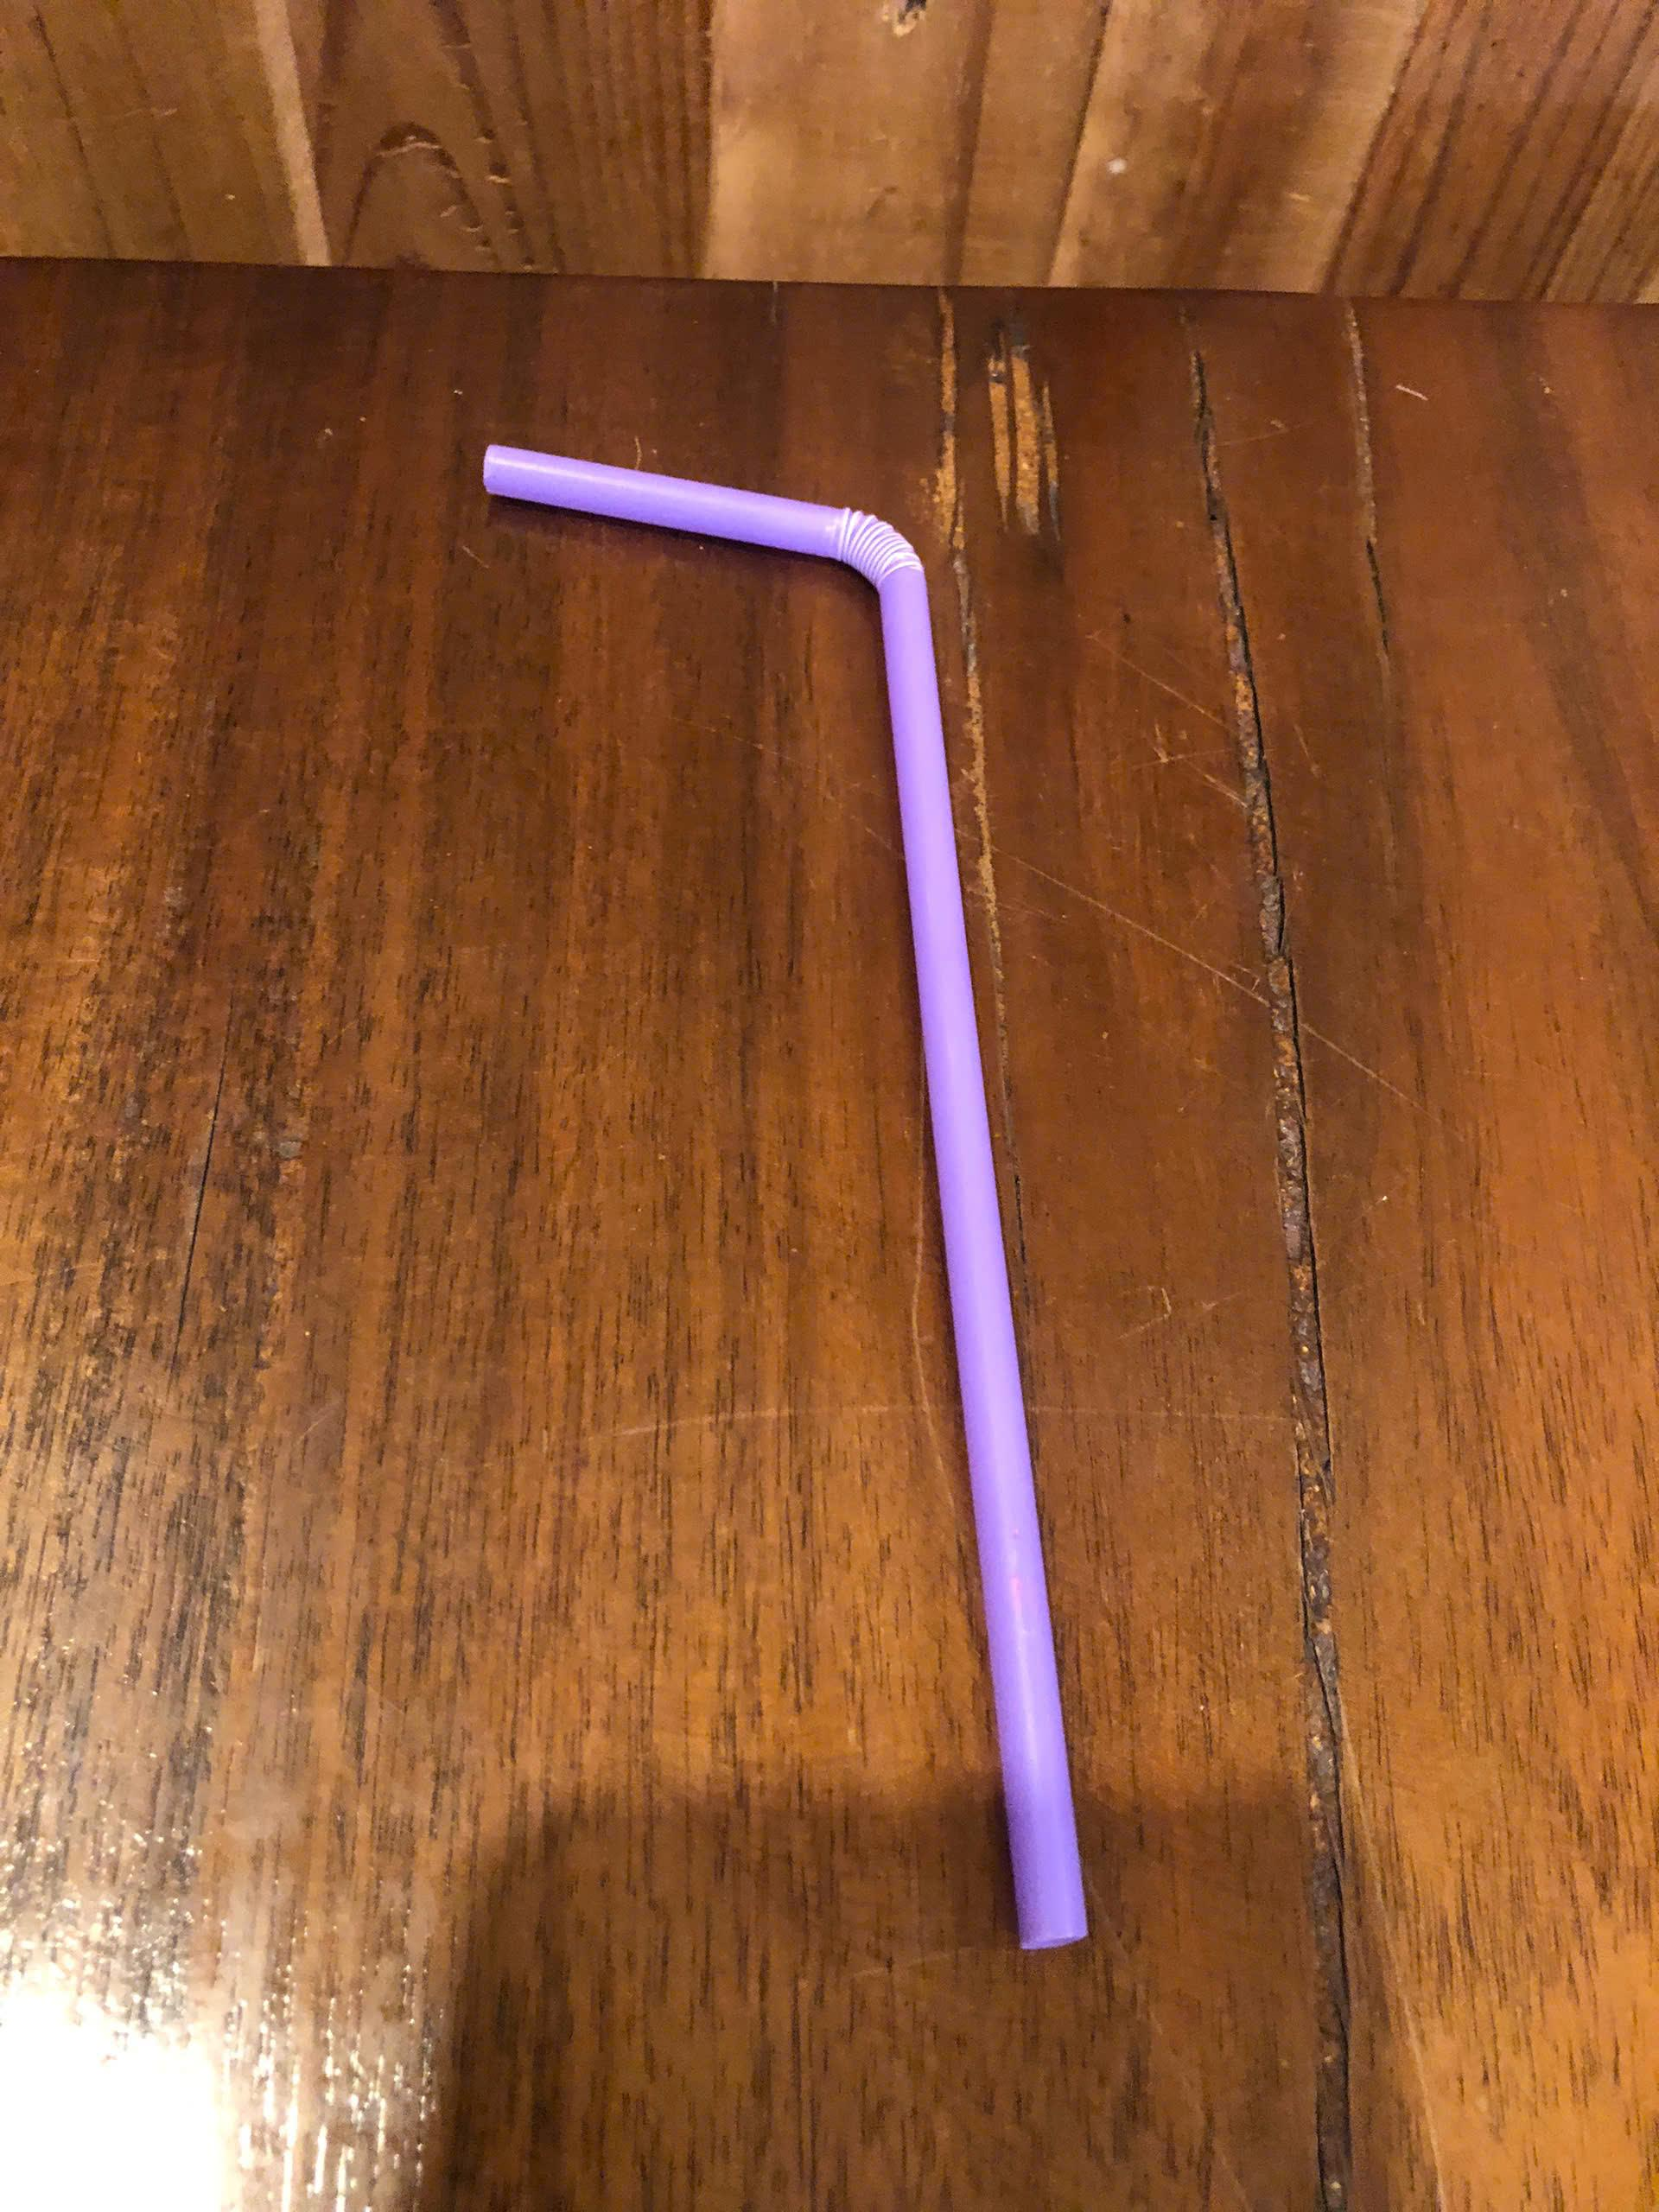Vo co: (484, 442, 1089, 1951)
